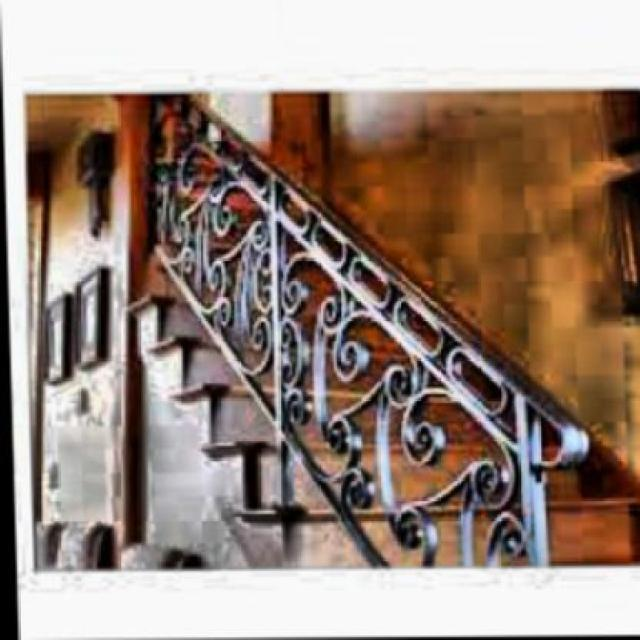stair: (121, 283, 638, 625)
